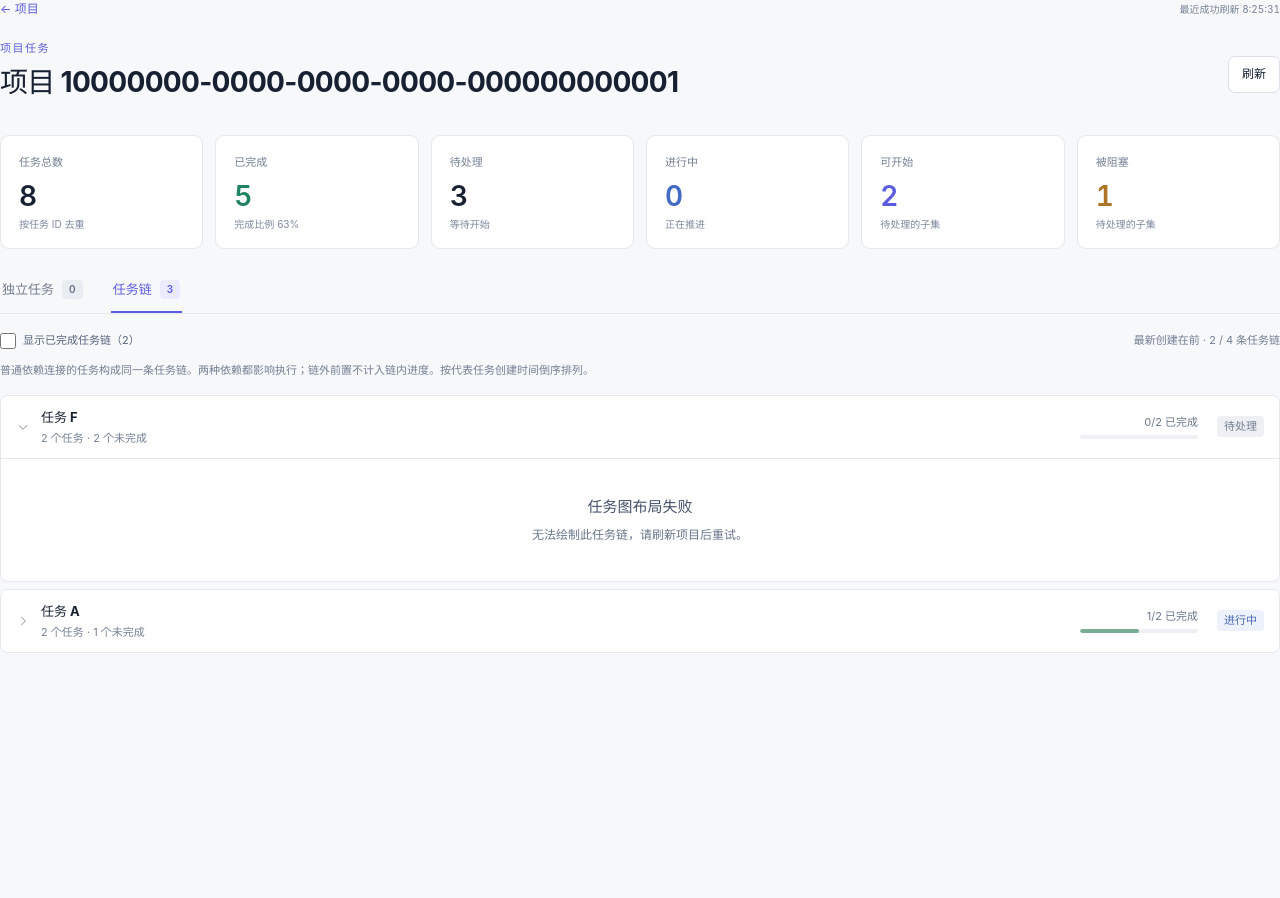
Test: completed task chain visibility › retains the chosen visibility and complete snapshot when a refresh fails
The width and height of the screenshot is (1280, 898).
Click the checkbox labelled "显示已完成任务链（2）": (8, 341) [0,333,16,349]
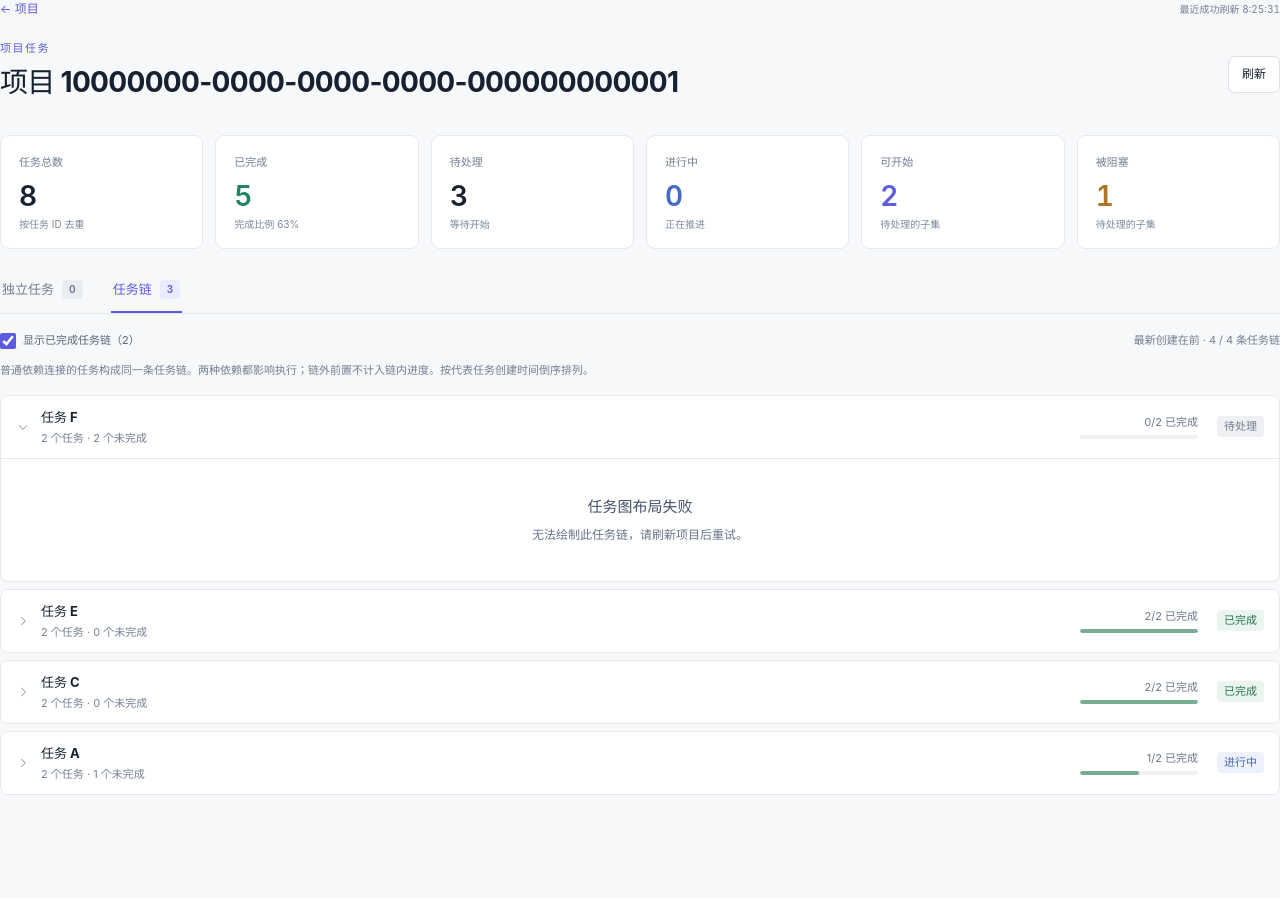
Click the button "刷新": (1254, 74) [1228,56,1279,93]
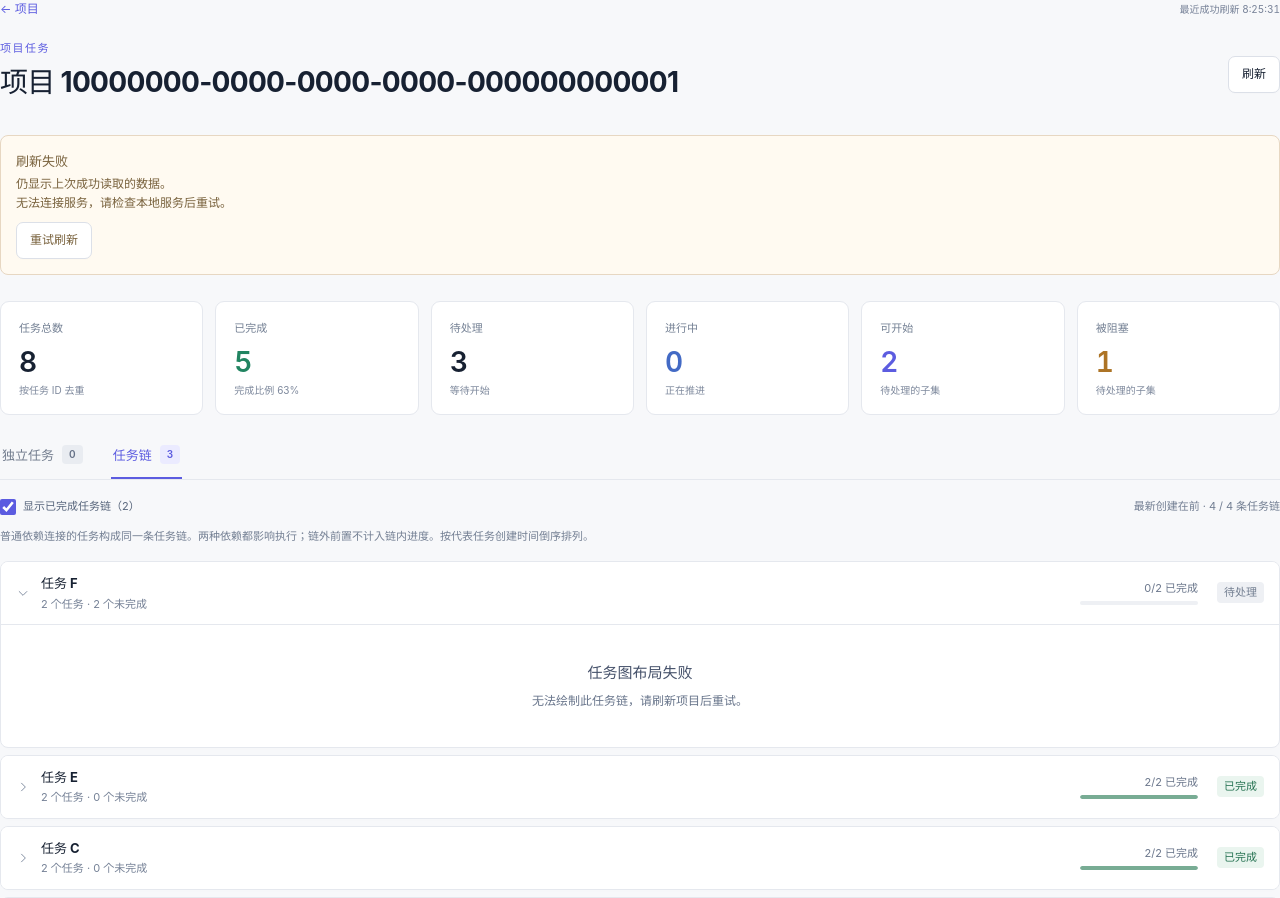
Now the checkbox labelled "显示已完成任务链（2）" is checked, box [0,498,16,514]
Now the message "刷新失败 仍显示上次成功读取的数据。 无法连接服务，请检查本地服务后重试。 重试刷新" is shown, box [0,135,1279,275]
